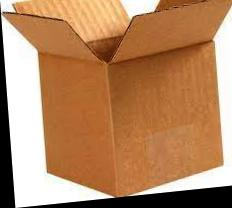cube: (29, 33, 224, 206)
